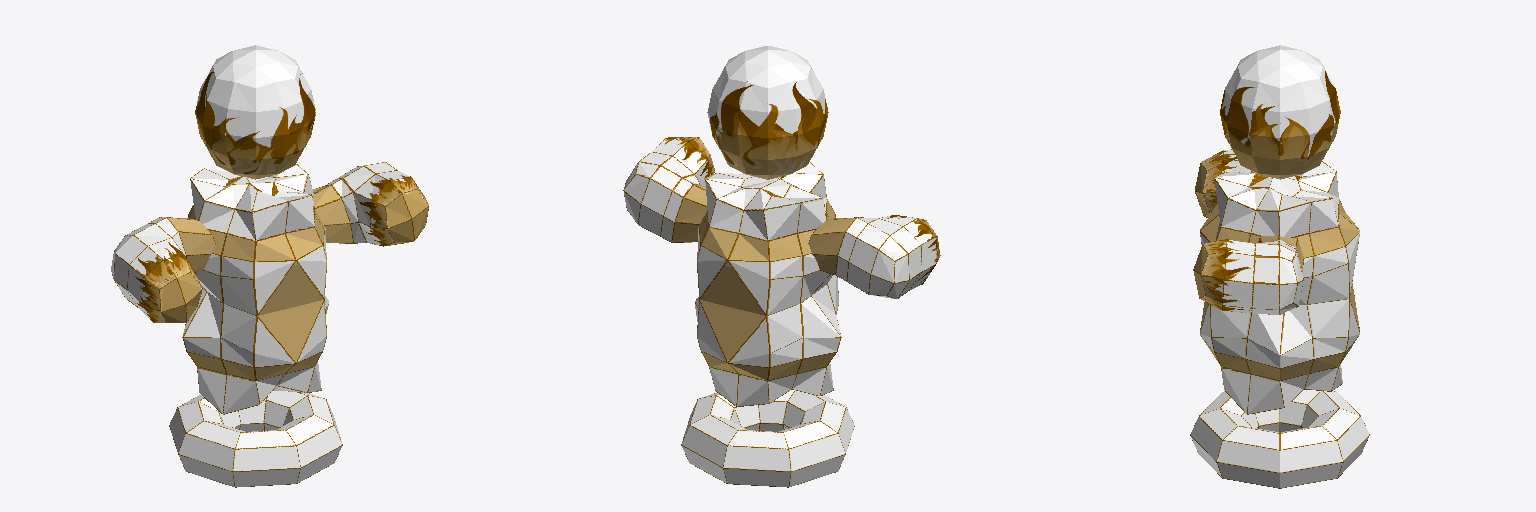
3 renders of one model, left to right at view 1: azimuth 30°, elevation 25°; view 2: azimuth 150°, elevation 25°; view 3: azimuth 270°, elevation 25°, orthographic.
Visible parts, largest first — view 1: polySurface34, textureEditorIsolateSelectSet polySurface34; view 2: polySurface34, textureEditorIsolateSelectSet polySurface34; view 3: polySurface34, textureEditorIsolateSelectSet polySurface34.
Part boxes in pixels (x1,y1,x2,y2): polySurface34: (169,45,342,487); textureEditorIsolateSelectSet polySurface34: (111,162,428,322); polySurface34: (681,46,854,487); textureEditorIsolateSelectSet polySurface34: (623,137,940,298); polySurface34: (1190,45,1369,488); textureEditorIsolateSelectSet polySurface34: (1193,149,1303,314).
Size of the model in its own units: 5.46 by 7.6 by 3.
1 materials, 1 textured.